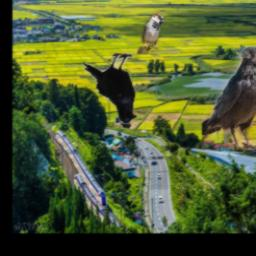Crow: (201, 47, 256, 151), (81, 53, 138, 125)
Sparrow: (136, 13, 164, 54)
